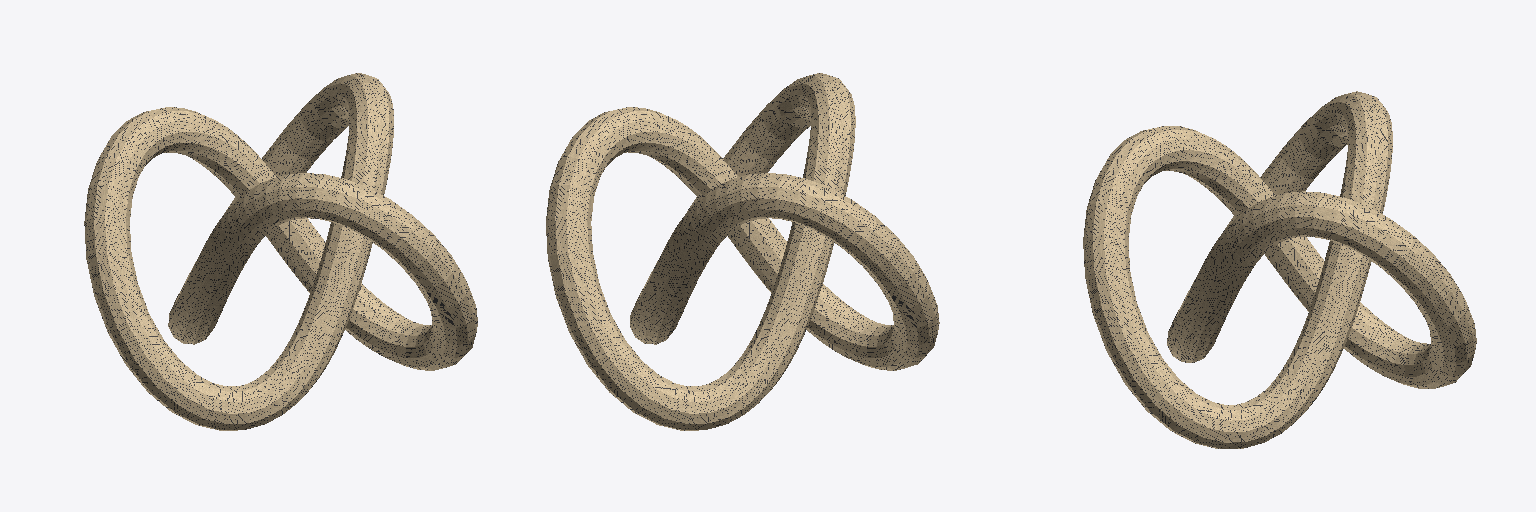
3 renders of one model, left to right at view 1: azimuth 30°, elevation 25°; view 2: azimuth 150°, elevation 25°; view 3: azimuth 270°, elevation 25°, orthographic.
Visible parts, largest first — view 1: Torus_Knot001; view 2: Torus_Knot001; view 3: Torus_Knot001.
Boxes of the visible parts, box(x1,y1,x2,y2) form: Torus_Knot001: box(84, 73, 477, 430); Torus_Knot001: box(546, 73, 939, 430); Torus_Knot001: box(1083, 91, 1476, 448).
Size of the model in its own units: 16.11 by 12.16 by 17.22.
Materials: 1 (1 with a texture image).